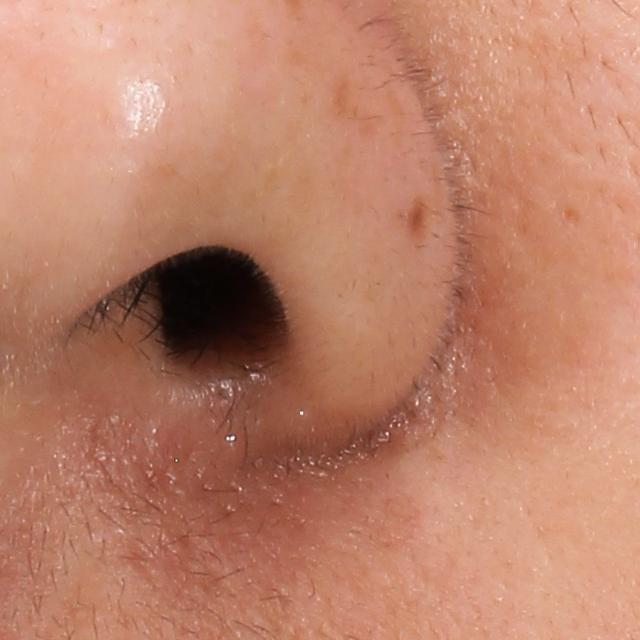melasma: (330, 60, 381, 137), (406, 196, 432, 240)
